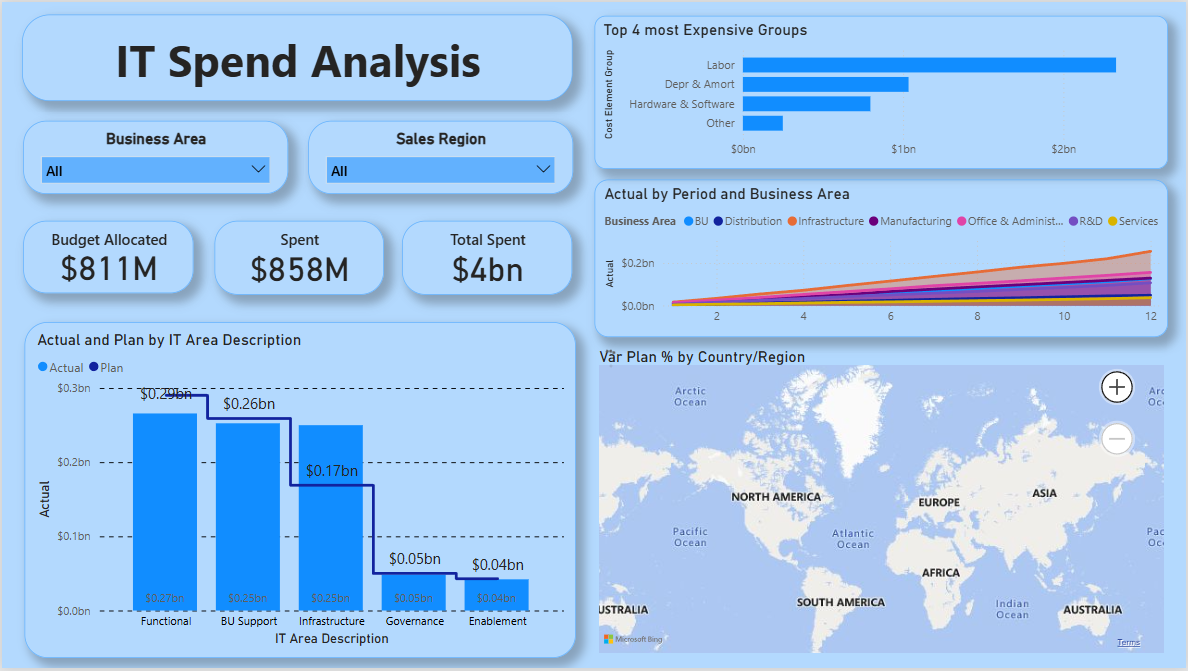

This screenshot's page, from the dashboard's own definition file:
{"tool":"powerbi","page":{"name":"Chart","canvas":[1280,720],"ordinal":0},"visuals":[{"type":"lineStackedColumnComboChart","fields":{"Category":["IT Area.IT Area","IT Area.IT Sub Area"],"Y":["Fact.Actual"],"Y2":["Fact.Plan"]},"box":[24.3,345.7,595.7,362.9],"z":0},{"type":"filledMap","fields":{"Category":["Country Region.Country/Region"]},"box":[640,372.9,620,335.7],"z":1000},{"type":"card","title":"Budget Allocated","fields":{"Values":["Fact.Plan"]},"box":[22.9,237.1,184.3,78.6],"z":2000},{"type":"textbox","box":[22.2,13.6,595.5,93.6],"z":3000},{"type":"card","title":"Total Spent","fields":{"Values":["Fact.Amount"]},"box":[432.9,237.1,184.3,80],"z":4000},{"type":"card","title":"Spent","fields":{"Values":["Fact.Actual"]},"box":[230,237.1,182.9,80],"z":5000},{"type":"slicer","title":"Sales Region","fields":{"Values":["Country Region.Sales Region"]},"box":[331.4,128,286,79],"z":6000},{"type":"slicer","title":"Business Area","fields":{"Values":["Business Area.Business Area"]},"box":[22.4,128,286,79],"z":7000},{"type":"barChart","title":"Top 4 most Expensive Groups","fields":{"Category":["Cost Element.Cost Element Group"],"Y":["Fact.Amount"]},"box":[640,14.3,620,165.7],"z":8000},{"type":"areaChart","fields":{"Category":["Date.Period"],"Y":["Fact.Actual"],"Series":["Business Area.Business Area"]},"box":[640,191.4,620,170],"z":9000}]}

Visuals, with their boxes in screenshot pixels (x1, y1, x2, y2), scaled from the page's 1280x720 canvas onto the 1188x671 screenshot:
lineStackedColumnComboChart - IT Area.IT Area x IT Area.IT Sub Area: pyautogui.locateOnScreen(23, 322, 575, 660)
filledMap - Country Region.Country/Region: pyautogui.locateOnScreen(594, 348, 1169, 660)
"Budget Allocated" card: pyautogui.locateOnScreen(21, 221, 192, 294)
textbox: pyautogui.locateOnScreen(21, 13, 573, 100)
"Total Spent" card: pyautogui.locateOnScreen(402, 221, 573, 296)
"Spent" card: pyautogui.locateOnScreen(213, 221, 383, 296)
"Sales Region" slicer: pyautogui.locateOnScreen(308, 119, 573, 193)
"Business Area" slicer: pyautogui.locateOnScreen(21, 119, 286, 193)
"Top 4 most Expensive Groups" barChart: pyautogui.locateOnScreen(594, 13, 1169, 168)
areaChart - Date.Period x Fact.Actual: pyautogui.locateOnScreen(594, 178, 1169, 337)
